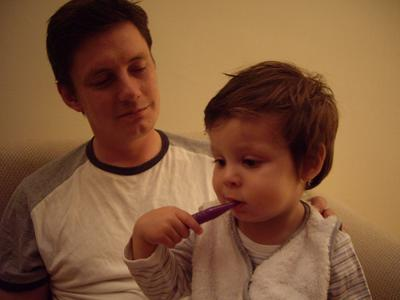person: (124, 61, 376, 300)
